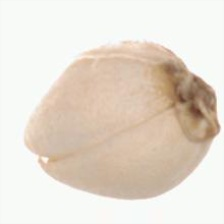L1: (163, 57, 220, 132), (21, 126, 57, 178)
L2: (23, 41, 220, 200)
